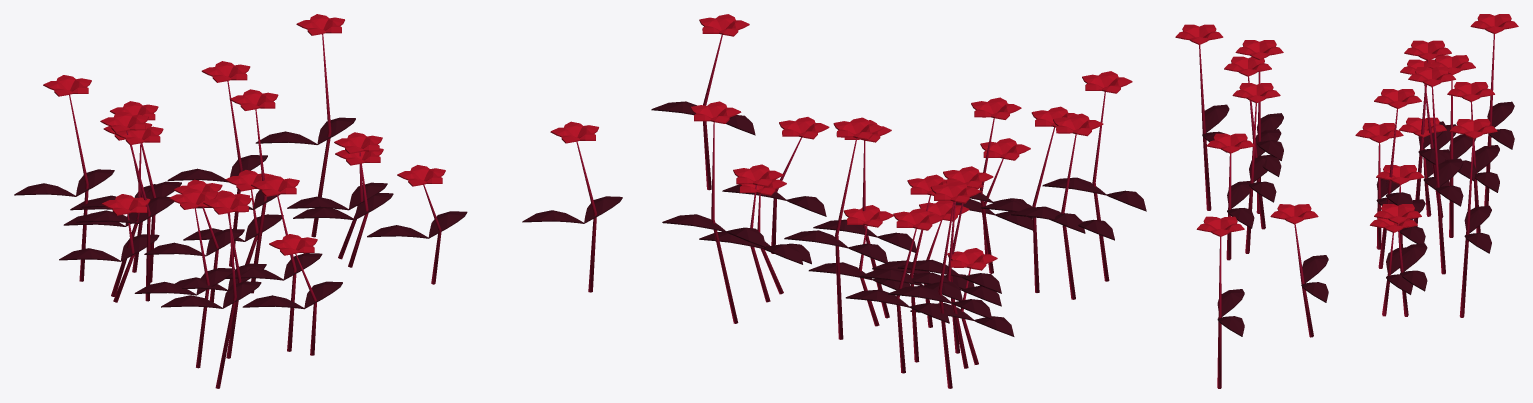
Rendered from SM_RV_Flowers.fbx.
The picture shows the model from 3 angles, left to right: view 1: azimuth 30°, elevation 25°; view 2: azimuth 150°, elevation 25°; view 3: azimuth 270°, elevation 25°; orthographic projection. The views are drawn at different scales.
Parts seen in each view (by area): view 1: SM_RV_Flowers; view 2: SM_RV_Flowers; view 3: SM_RV_Flowers.
Boxes of the visible parts, x1,y1,x2,y2 form: SM_RV_Flowers: (14,14,622,388); SM_RV_Flowers: (651,14,1146,388); SM_RV_Flowers: (1175,14,1518,388).
Bounding box in the file's own units: 131 × 199 × 83.35.
